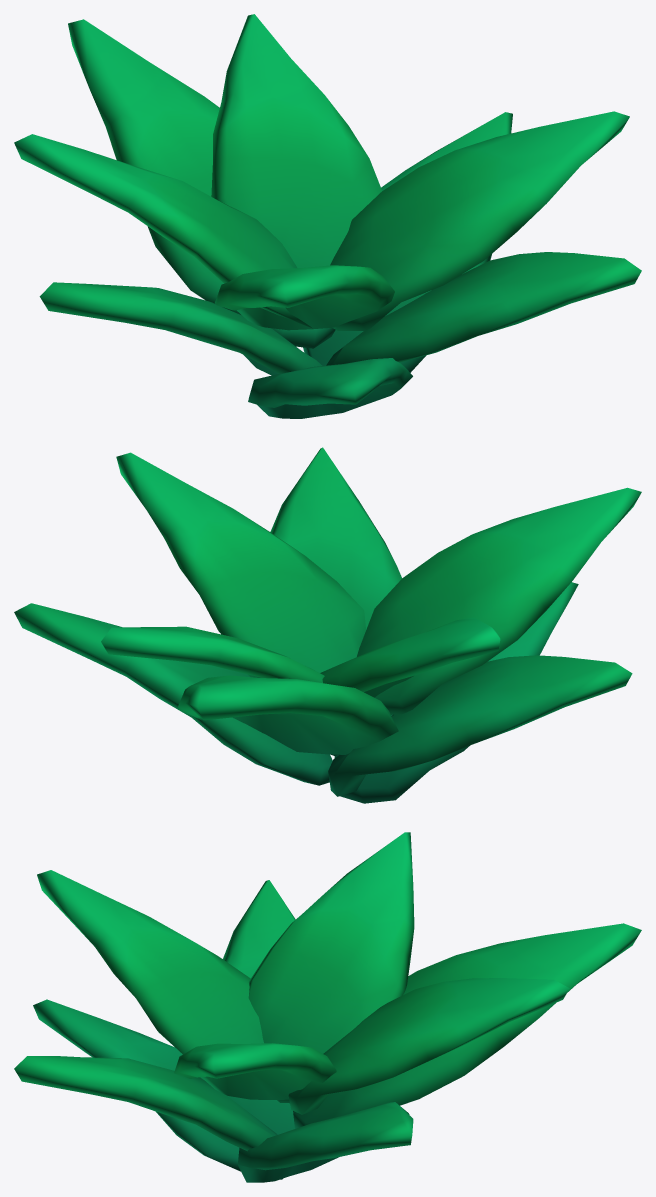
File: Plant_007.fbx
The picture shows the model from 3 angles, top to bottom: view 1: azimuth 30°, elevation 25°; view 2: azimuth 150°, elevation 25°; view 3: azimuth 270°, elevation 25°; orthographic projection. The views are drawn at different scales.
Parts seen in each view (by area): view 1: Plant_007; view 2: Plant_007; view 3: Plant_007.
Boxes of the visible parts, bbox=[...] form: Plant_007: bbox=[14, 14, 641, 418]; Plant_007: bbox=[14, 447, 641, 803]; Plant_007: bbox=[14, 832, 641, 1182].
Size of the model in its own units: 32.59 by 35.24 by 15.5.
